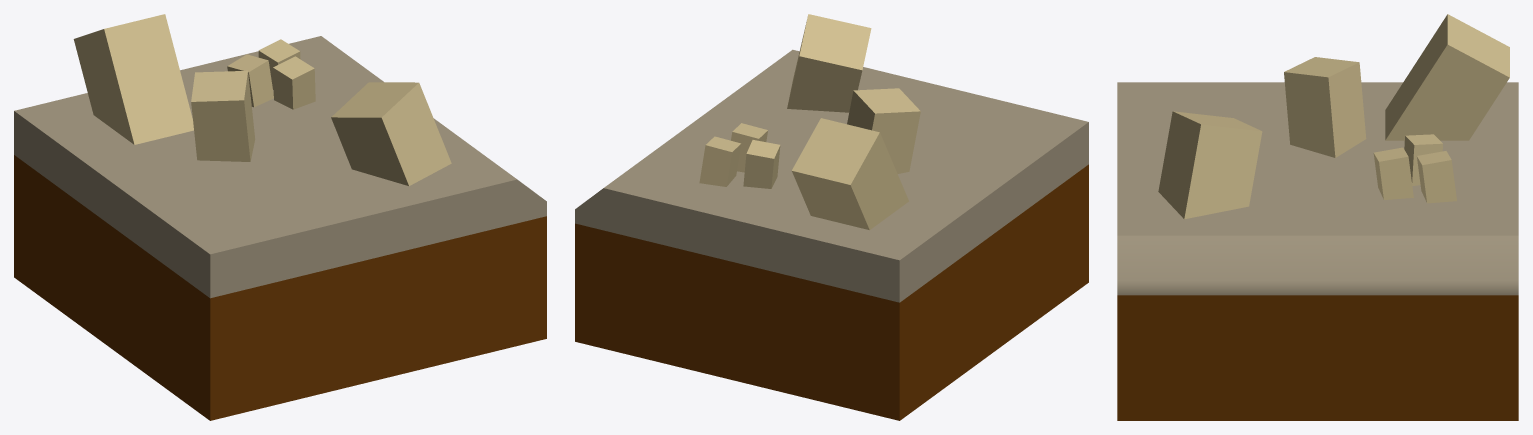
File: PreWarRuins01.fbx
3 renders of one model, left to right at view 1: azimuth 30°, elevation 25°; view 2: azimuth 150°, elevation 25°; view 3: azimuth 270°, elevation 25°, orthographic. The views are drawn at different scales.
Visible parts, largest first — view 1: PreWarRuins01; view 2: PreWarRuins01; view 3: PreWarRuins01.
Part boxes in pixels (left/top/right/bottom): PreWarRuins01: left=14, top=14, right=546, bottom=420; PreWarRuins01: left=575, top=14, right=1088, bottom=420; PreWarRuins01: left=1117, top=14, right=1518, bottom=420.
Size of the model in its own units: 96.18 by 71.07 by 97.03.
1 material, 1 textured.
